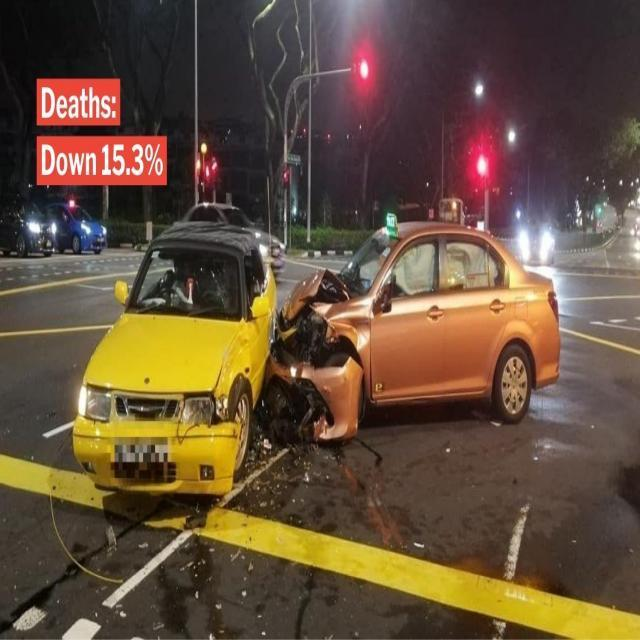car Accident: (106, 224, 498, 482)
